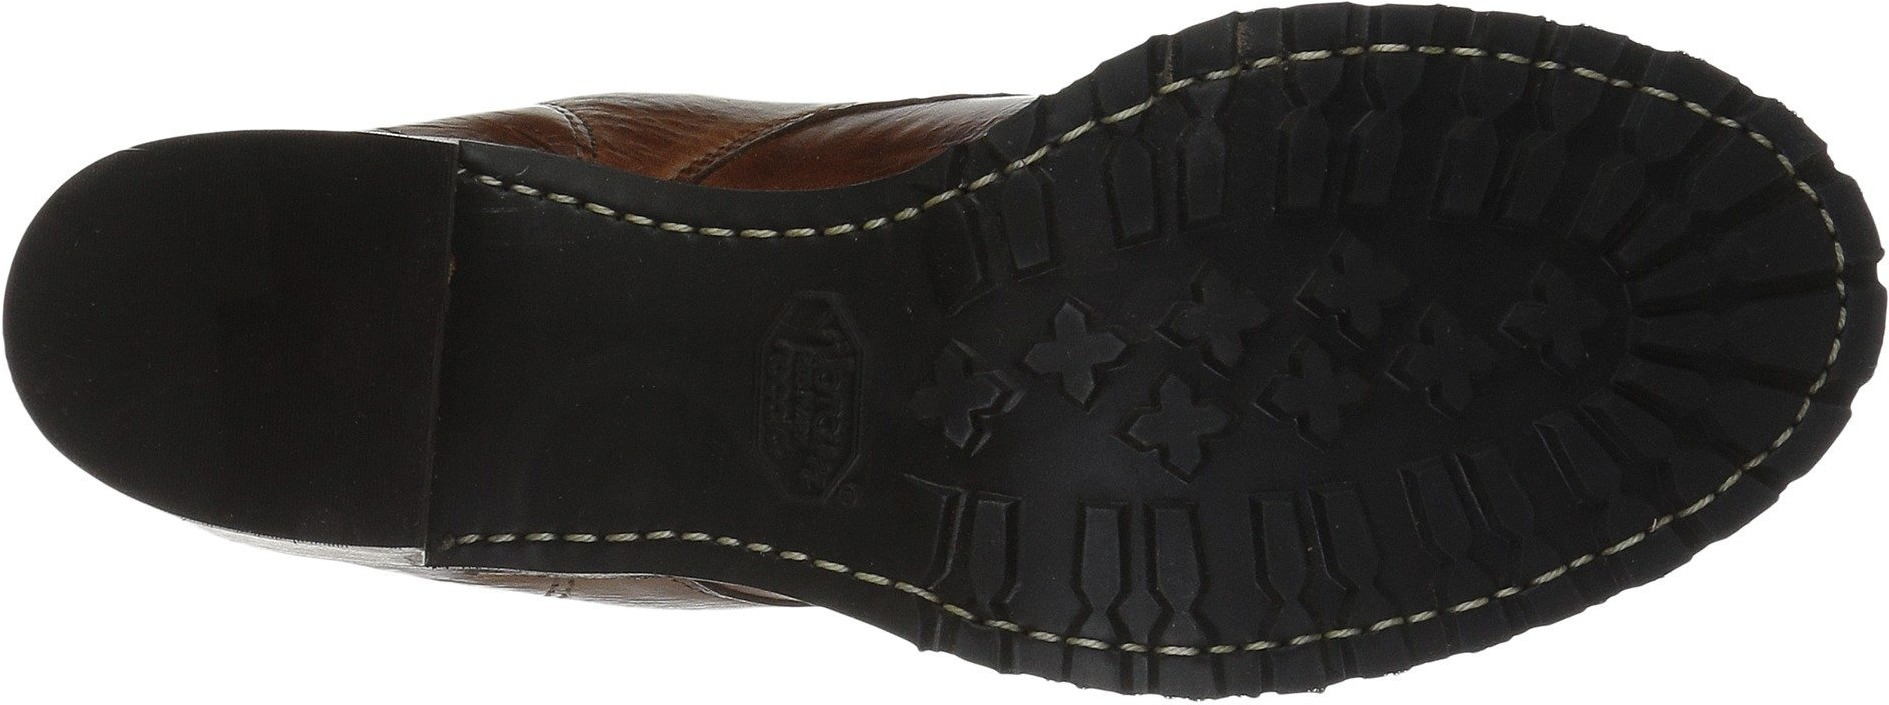bowtie: (1616, 213, 1870, 450), (1261, 460, 1469, 678)
exclude: (455, 84, 831, 634)
other: (106, 175, 406, 477)
star: (1237, 234, 1450, 439), (1022, 298, 1229, 490), (1460, 265, 1606, 412)
text: (749, 327, 887, 472)
